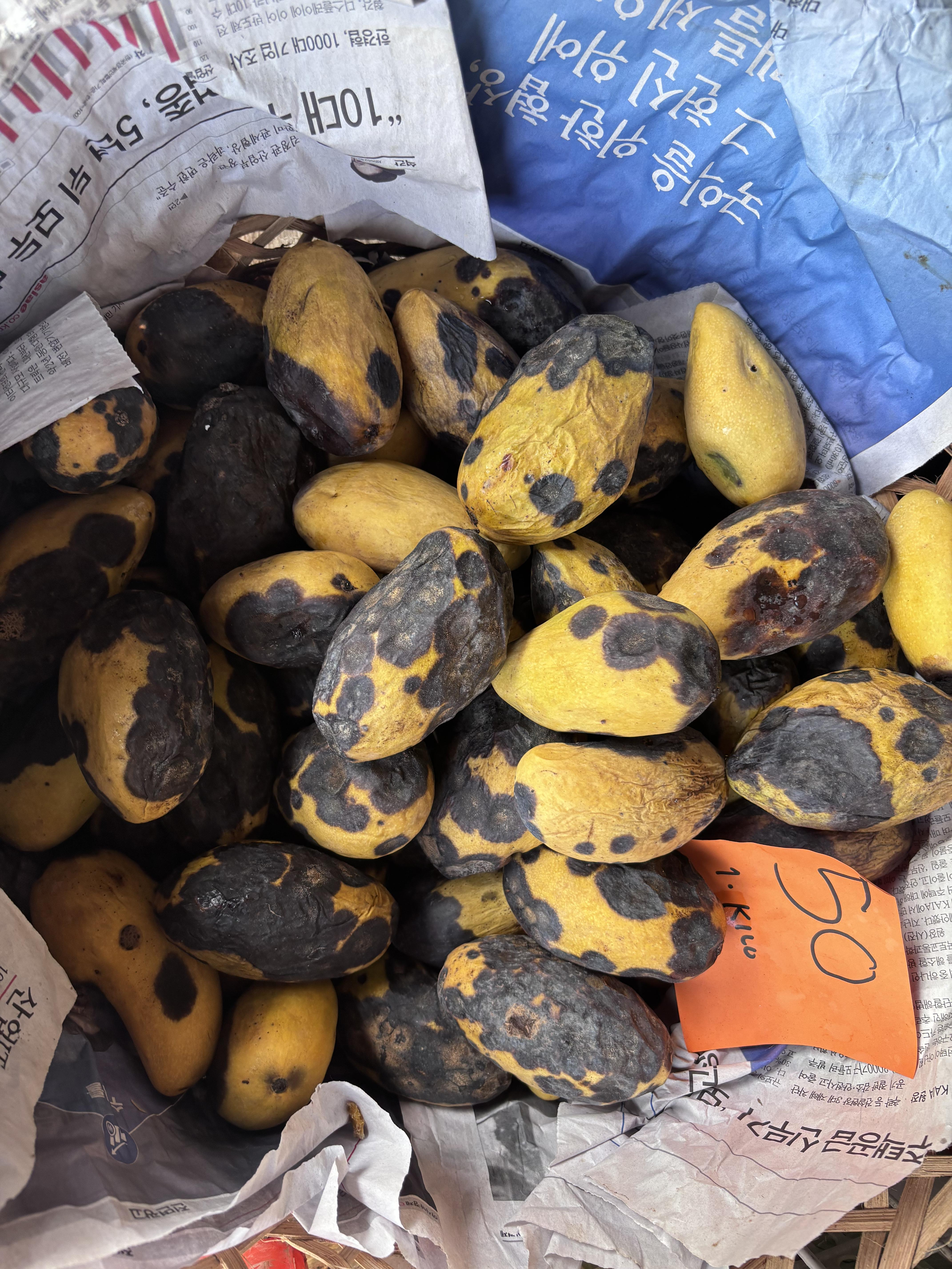mango: (313, 527, 513, 763), (458, 315, 654, 545), (438, 934, 673, 1105), (727, 668, 952, 832), (58, 590, 214, 823), (154, 841, 396, 983), (492, 591, 720, 737), (263, 240, 402, 457), (515, 728, 728, 863), (685, 303, 806, 506)
occluded: (31, 850, 222, 1097), (660, 490, 890, 660), (0, 486, 154, 700), (166, 384, 316, 598), (503, 846, 727, 983), (336, 947, 511, 1106), (156, 643, 280, 861), (420, 688, 561, 878), (200, 550, 378, 687), (368, 245, 587, 355), (274, 724, 434, 859), (393, 289, 518, 455), (293, 461, 467, 575), (699, 798, 929, 881), (210, 981, 338, 1130), (125, 280, 265, 407), (0, 678, 99, 851), (20, 386, 158, 493), (883, 490, 952, 690), (394, 871, 520, 968), (124, 406, 194, 566), (789, 594, 912, 683), (694, 652, 796, 758), (531, 534, 647, 624), (625, 377, 691, 503), (362, 408, 429, 467), (496, 542, 530, 571), (328, 453, 353, 466)
